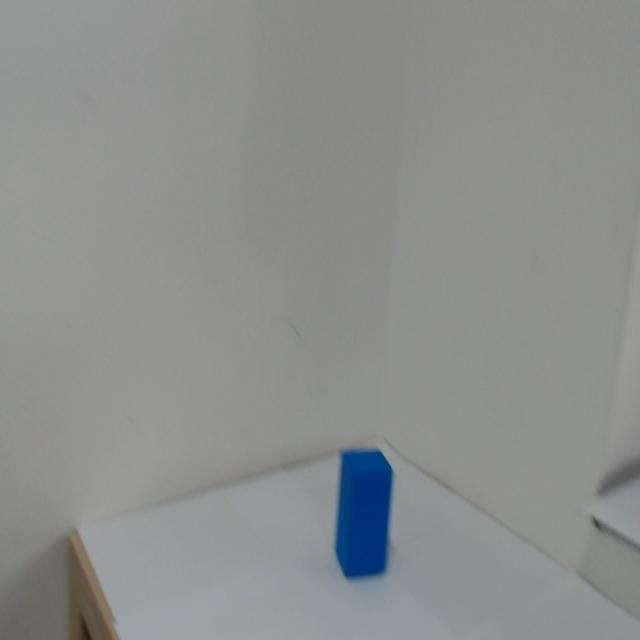cube: (330, 408, 402, 566)
